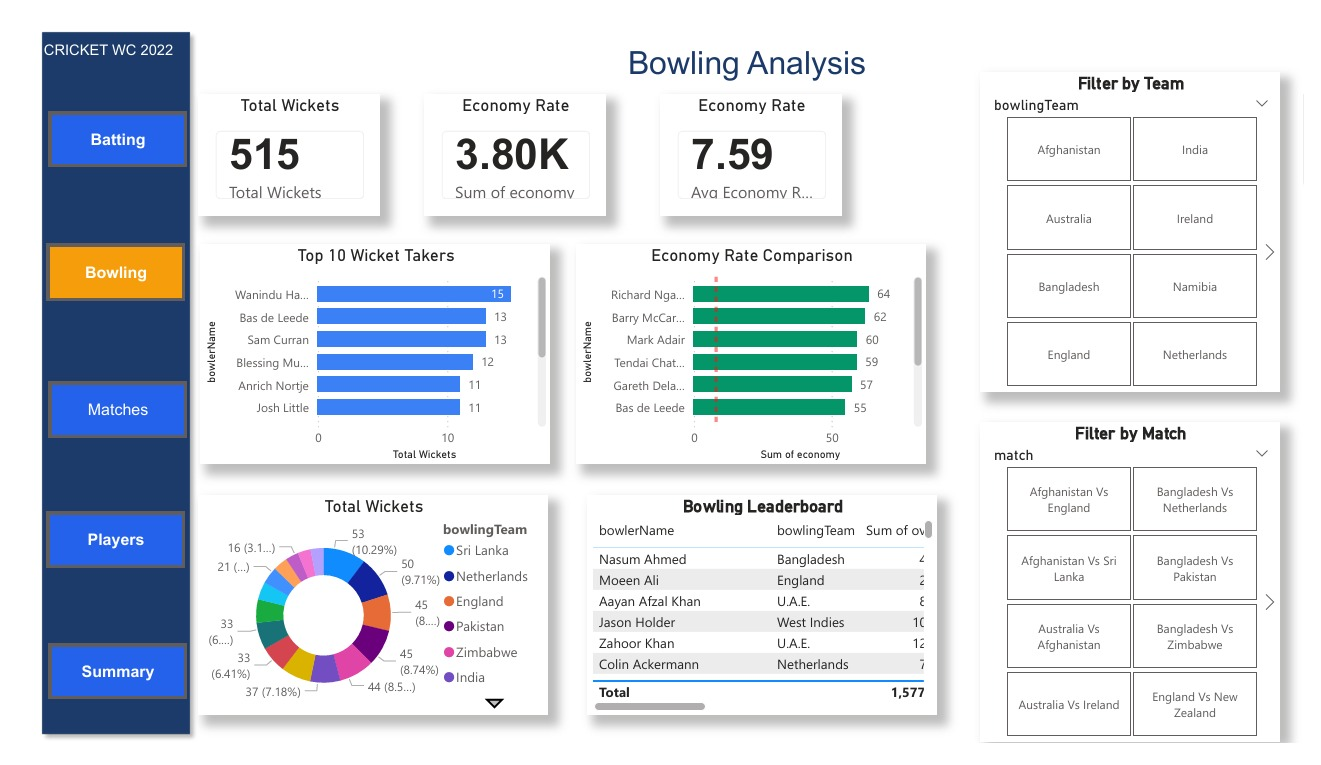

The dashboard page shown, as its layout file describes it:
{"tool":"powerbi","page":{"name":"Bowling Page","canvas":[1280,720],"ordinal":1},"visuals":[{"type":"shape","box":[9.4,0,165.9,720],"z":0},{"type":"textbox","box":[8,12.7,152.9,36.6],"z":1000},{"type":"textbox","box":[175.2,0,1105.5,71.7],"z":2000},{"type":"cardVisual","title":"Total Wickets","fields":{"Data":["Bowling.Total Wickets"]},"box":[175.2,71.7,182,122.7],"z":3000},{"type":"cardVisual","title":"Economy Rate","fields":{"Data":["Sum(Bowling.economy)"]},"box":[401.4,71.7,181.6,122.7],"z":4000},{"type":"cardVisual","title":"Economy Rate","fields":{"Data":["Bowling.Avg Economy Rate"]},"box":[637.2,71.7,181.6,122.7],"z":5000},{"type":"clusteredBarChart","title":"Top 10 Wicket Takers","fields":{"Category":["Bowling.bowlerName"],"Y":["Bowling.Total Wickets"]},"box":[176.7,221.7,350,220],"z":6000},{"type":"clusteredBarChart","title":"Economy Rate Comparison","fields":{"Category":["Bowling.bowlerName"],"Y":["Sum(Bowling.economy)"]},"box":[553.3,221.7,350,220],"z":7000},{"type":"donutChart","title":"Total Wickets ","fields":{"Category":["Bowling.bowlingTeam"],"Y":["Bowling.Total Wickets"]},"box":[175,473.3,350,220],"z":8000},{"type":"tableEx","title":"Bowling Leaderboard","fields":{"Values":["Bowling.bowlerName","Bowling.bowlingTeam","Sum(Bowling.overs)","Sum(Bowling.runs)","Sum(Bowling.wickets)","Sum(Bowling.economy)","Bowling.Avg Economy Rate","Sum(Bowling.maiden)","Sum(Bowling.Dot Balls)"]},"box":[563.8,473.2,350.3,219.7],"z":9000},{"type":"slicer","title":"Filter by Team","fields":{"Values":["Bowling.bowlingTeam"]},"box":[956.7,50,300,320],"z":10000},{"type":"slicer","title":"Filter by Match","fields":{"Values":["Bowling.match"]},"box":[956.7,400,300,320],"z":11000},{"type":"actionButton","box":[24.6,89.1,138.3,55.3],"z":12000},{"type":"actionButton","box":[23,221.2,138.3,56.8],"z":13000},{"type":"actionButton","box":[24.6,359.5,138.3,55.3],"z":14000},{"type":"actionButton","box":[23,488.5,138.3,56.8],"z":15000},{"type":"actionButton","box":[24.6,620.7,138.3,55.3],"z":16000}]}

Visuals, with their boxes in screenshot pixels (x1, y1, x2, y2), scaled from the page's 1280x720 canvas onto the 1321x765 screenshot:
shape: <region>10, 0, 181, 764</region>
textbox: <region>8, 13, 166, 52</region>
textbox: <region>181, 0, 1320, 76</region>
"Total Wickets" cardVisual: <region>181, 76, 369, 207</region>
"Economy Rate" cardVisual: <region>414, 76, 602, 207</region>
"Economy Rate" cardVisual: <region>658, 76, 845, 207</region>
"Top 10 Wicket Takers" clusteredBarChart: <region>182, 236, 544, 469</region>
"Economy Rate Comparison" clusteredBarChart: <region>571, 236, 932, 469</region>
"Total Wickets " donutChart: <region>181, 503, 542, 737</region>
"Bowling Leaderboard" tableEx: <region>582, 503, 943, 736</region>
"Filter by Team" slicer: <region>987, 53, 1297, 393</region>
"Filter by Match" slicer: <region>987, 425, 1297, 764</region>
actionButton: <region>25, 95, 168, 153</region>
actionButton: <region>24, 235, 166, 295</region>
actionButton: <region>25, 382, 168, 441</region>
actionButton: <region>24, 519, 166, 579</region>
actionButton: <region>25, 659, 168, 718</region>
